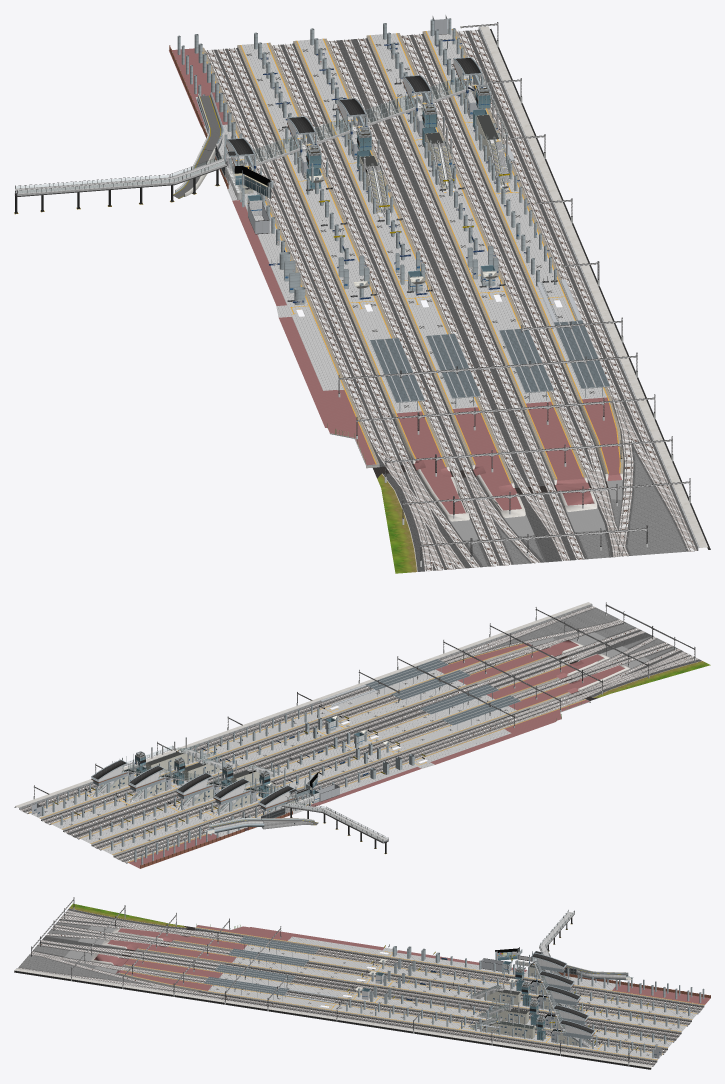
Rendered from OfficialBusanStation_Layer0PlatformsDetails.fbx.
3 renders of one model, top to bottom at view 1: azimuth 30°, elevation 25°; view 2: azimuth 150°, elevation 25°; view 3: azimuth 270°, elevation 25°, orthographic. The views are drawn at different scales.
Visible parts, largest first — view 1: OfficialStation_Layer0_2, OfficialStation_Layer0_9, OfficialStation_Layer0_3, OfficialStation_Layer0_4, OfficialStation_Layer0_0, OfficialStation_Layer0_5, OfficialStation_Layer0_1, OfficialStation_Layer0_6, OfficialStation_Layer0_7, OfficialStation_Layer0_8; view 2: OfficialStation_Layer0_2, OfficialStation_Layer0_3, OfficialStation_Layer0_4, OfficialStation_Layer0_9, OfficialStation_Layer0_0, OfficialStation_Layer0_6, OfficialStation_Layer0_1, OfficialStation_Layer0_5, OfficialStation_Layer0_7, OfficialStation_Layer0_8; view 3: OfficialStation_Layer0_2, OfficialStation_Layer0_3, OfficialStation_Layer0_4, OfficialStation_Layer0_9, OfficialStation_Layer0_0, OfficialStation_Layer0_5, OfficialStation_Layer0_1, OfficialStation_Layer0_6, OfficialStation_Layer0_7, OfficialStation_Layer0_8.
Boxes of the visible parts, x1=… form: OfficialStation_Layer0_2: x1=169, y1=19, x2=710, y2=573; OfficialStation_Layer0_9: x1=205, y1=30, x2=625, y2=406; OfficialStation_Layer0_3: x1=237, y1=29, x2=610, y2=462; OfficialStation_Layer0_4: x1=226, y1=22, x2=690, y2=566; OfficialStation_Layer0_0: x1=14, y1=34, x2=514, y2=295; OfficialStation_Layer0_5: x1=226, y1=67, x2=510, y2=217; OfficialStation_Layer0_1: x1=169, y1=15, x2=557, y2=302; OfficialStation_Layer0_6: x1=287, y1=74, x2=490, y2=189; OfficialStation_Layer0_7: x1=337, y1=62, x2=482, y2=147; OfficialStation_Layer0_8: x1=226, y1=57, x2=488, y2=193; OfficialStation_Layer0_2: x1=14, y1=602, x2=710, y2=868; OfficialStation_Layer0_3: x1=28, y1=659, x2=581, y2=856; OfficialStation_Layer0_4: x1=33, y1=602, x2=695, y2=804; OfficialStation_Layer0_9: x1=20, y1=686, x2=513, y2=863; OfficialStation_Layer0_0: x1=124, y1=715, x2=392, y2=864; OfficialStation_Layer0_6: x1=127, y1=748, x2=269, y2=815; OfficialStation_Layer0_1: x1=32, y1=704, x2=425, y2=868; OfficialStation_Layer0_5: x1=112, y1=741, x2=317, y2=803; OfficialStation_Layer0_7: x1=90, y1=765, x2=212, y2=802; OfficialStation_Layer0_8: x1=91, y1=752, x2=295, y2=813; OfficialStation_Layer0_2: x1=14, y1=903, x2=710, y2=1069; OfficialStation_Layer0_3: x1=196, y1=924, x2=698, y2=1061; OfficialStation_Layer0_4: x1=31, y1=897, x2=635, y2=1066; OfficialStation_Layer0_9: x1=219, y1=948, x2=703, y2=1066; OfficialStation_Layer0_0: x1=347, y1=910, x2=704, y2=1032; OfficialStation_Layer0_5: x1=466, y1=949, x2=565, y2=1038; OfficialStation_Layer0_1: x1=339, y1=944, x2=710, y2=1058; OfficialStation_Layer0_6: x1=496, y1=970, x2=584, y2=1028; OfficialStation_Layer0_7: x1=530, y1=989, x2=598, y2=1047; OfficialStation_Layer0_8: x1=489, y1=952, x2=599, y2=1046.
Size of the model in its own units: 21657 by 1450 by 38376.
Materials: 141 (94 with a texture image).
